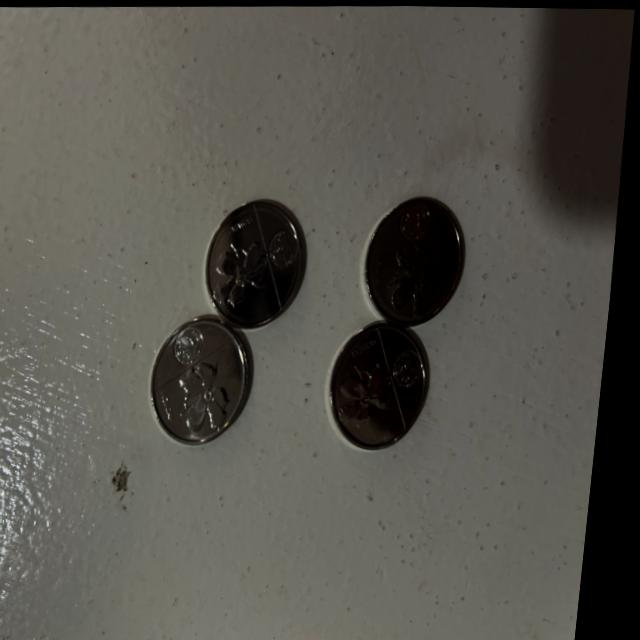25Cent_New_Back: (337, 356, 405, 424), (210, 236, 274, 306), (183, 357, 243, 428), (390, 244, 447, 317)
